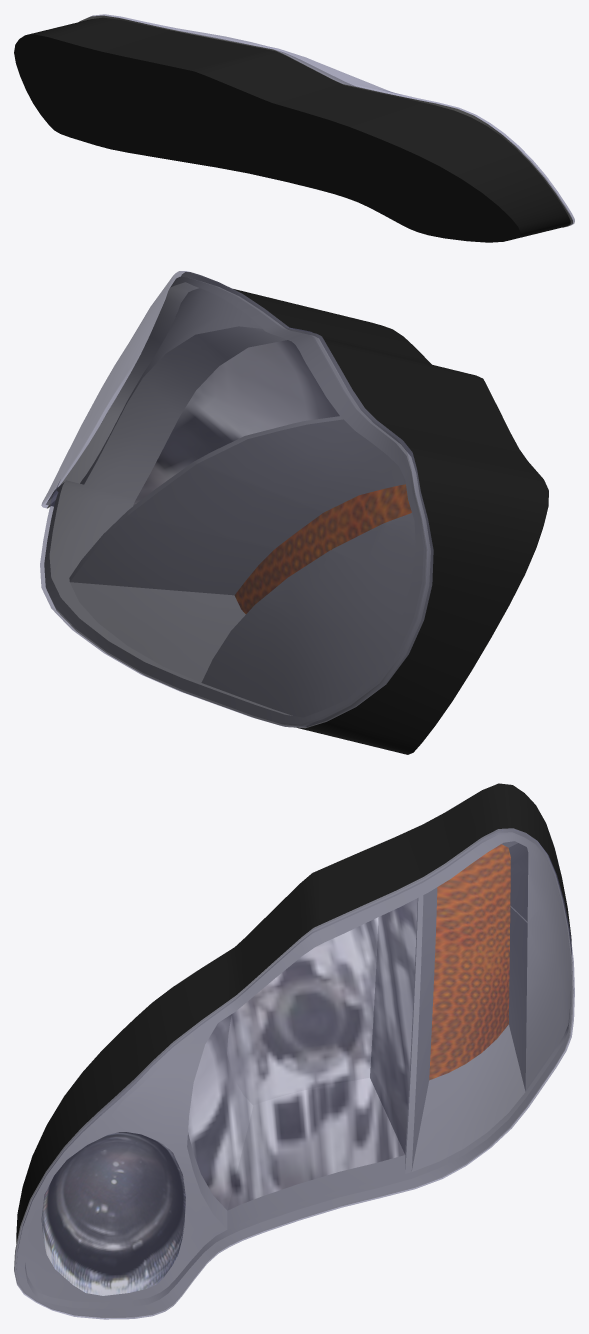
3 renders of one model, top to bottom at view 1: azimuth 30°, elevation 25°; view 2: azimuth 150°, elevation 25°; view 3: azimuth 270°, elevation 25°, orthographic. The views are drawn at different scales.
Parts seen in each view (by area): view 1: Y211_061B_L_Y211_061B_L_5_D, Y211_061B_L_Y211_061B_L_4_DTaSI, Y211_061B_L_Y211_061B_L_6_DaS; view 2: Y211_061B_L_Y211_061B_L_4_DTaSI, Y211_061B_L_Y211_061B_L_6_DaS, Y211_061B_L_Y211_061B_L_5_D, Y211_061B_L_Y211_061B_L_3_N, Y211_061B_L_1_N_Y211_061B_L; view 3: Y211_061B_L_Y211_061B_L_4_DTaSI, Y211_061B_L_Y211_061B_L_6_DaS, Y211_061B_L_Y211_061B_L_3_N, Y211_061B_L_Y211_061B_L_5_D, Y211_061B_L_Y211_061B_L_2_N, Y211_061B_L_1_N_Y211_061B_L.
Boxes of the visible parts, x1,y1,x2,y2 form: Y211_061B_L_Y211_061B_L_5_D: (14, 17, 570, 242); Y211_061B_L_Y211_061B_L_4_DTaSI: (91, 14, 574, 225); Y211_061B_L_Y211_061B_L_6_DaS: (78, 15, 572, 227); Y211_061B_L_Y211_061B_L_4_DTaSI: (40, 271, 433, 727); Y211_061B_L_Y211_061B_L_6_DaS: (44, 272, 433, 728); Y211_061B_L_Y211_061B_L_5_D: (51, 289, 548, 754); Y211_061B_L_Y211_061B_L_3_N: (133, 340, 339, 505); Y211_061B_L_1_N_Y211_061B_L: (234, 484, 411, 613); Y211_061B_L_Y211_061B_L_4_DTaSI: (14, 828, 574, 1319); Y211_061B_L_Y211_061B_L_6_DaS: (14, 828, 573, 1318); Y211_061B_L_Y211_061B_L_3_N: (188, 898, 417, 1210); Y211_061B_L_Y211_061B_L_5_D: (16, 783, 571, 1243); Y211_061B_L_Y211_061B_L_2_N: (41, 1132, 185, 1295); Y211_061B_L_1_N_Y211_061B_L: (429, 844, 510, 1079).
Bounding box in the file's own units: 56.77 × 26.14 × 48.62.
